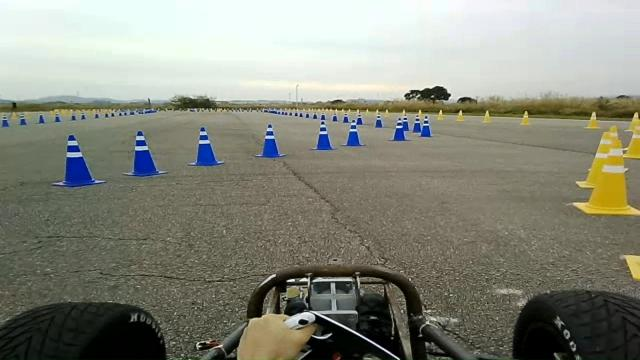blue cone: (51, 134, 106, 187), (121, 130, 168, 177), (187, 126, 224, 166), (253, 123, 286, 158), (309, 120, 337, 151), (340, 120, 365, 147), (388, 120, 411, 141), (419, 115, 433, 137), (411, 115, 421, 133), (374, 113, 383, 128), (355, 113, 364, 125), (342, 113, 349, 123)
yellow cone: (574, 136, 640, 217), (558, 124, 623, 184), (571, 129, 624, 189), (620, 118, 640, 166), (626, 107, 640, 139), (583, 111, 600, 129), (519, 110, 531, 125), (482, 109, 492, 123), (455, 109, 465, 121), (436, 109, 444, 120), (416, 109, 424, 119)
